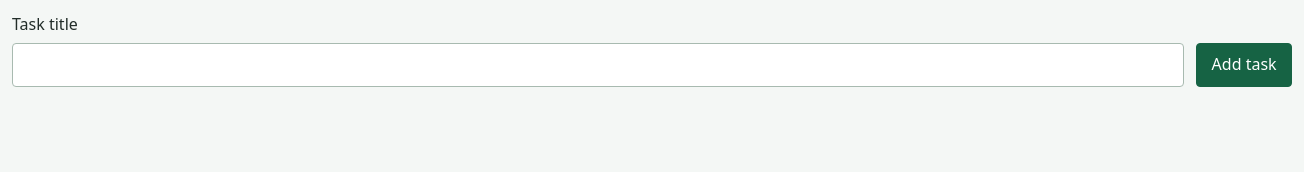
Test: TaskForm › rejects an empty title
This screenshot has width=1304, height=172.
Click the button "Add task" at [1244, 65], box [1196, 43, 1292, 87]
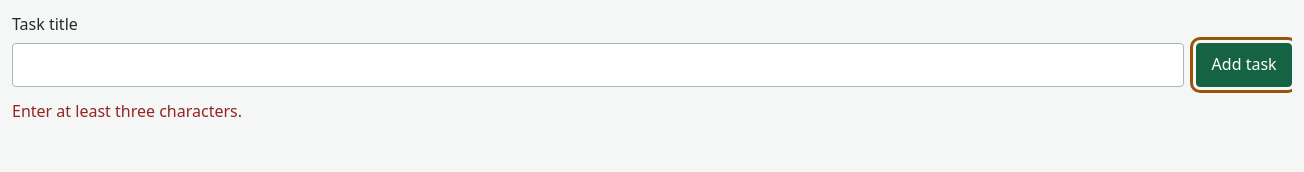
expect the message reads "Enter at least three characters.": met, box [12, 100, 242, 122]
